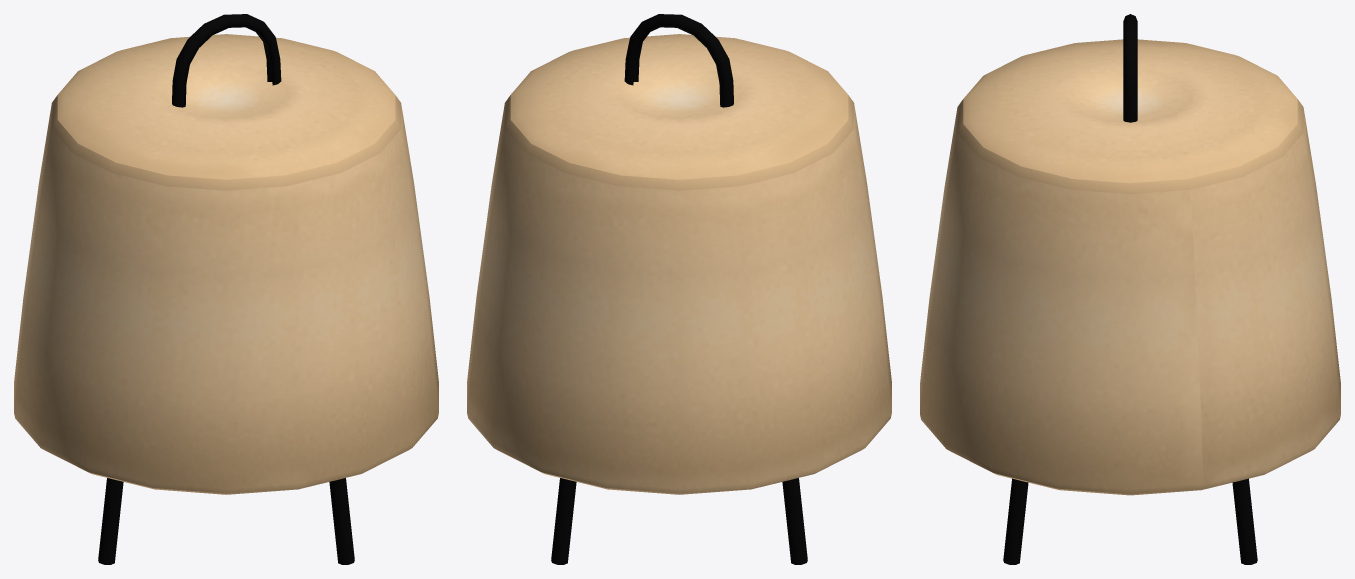
The model's file is SM_Outdoor_Light_009.FBX.
3 renders of one model, left to right at view 1: azimuth 30°, elevation 25°; view 2: azimuth 150°, elevation 25°; view 3: azimuth 270°, elevation 25°, orthographic.
Visible parts, largest first — view 1: SM_Outdoor_Light_009; view 2: SM_Outdoor_Light_009; view 3: SM_Outdoor_Light_009.
Part boxes in pixels (x1,y1,x2,y2): SM_Outdoor_Light_009: [14, 14, 438, 564]; SM_Outdoor_Light_009: [467, 14, 891, 564]; SM_Outdoor_Light_009: [920, 14, 1340, 564].
Size of the model in its own units: 21.85 by 21.52 by 28.99.
